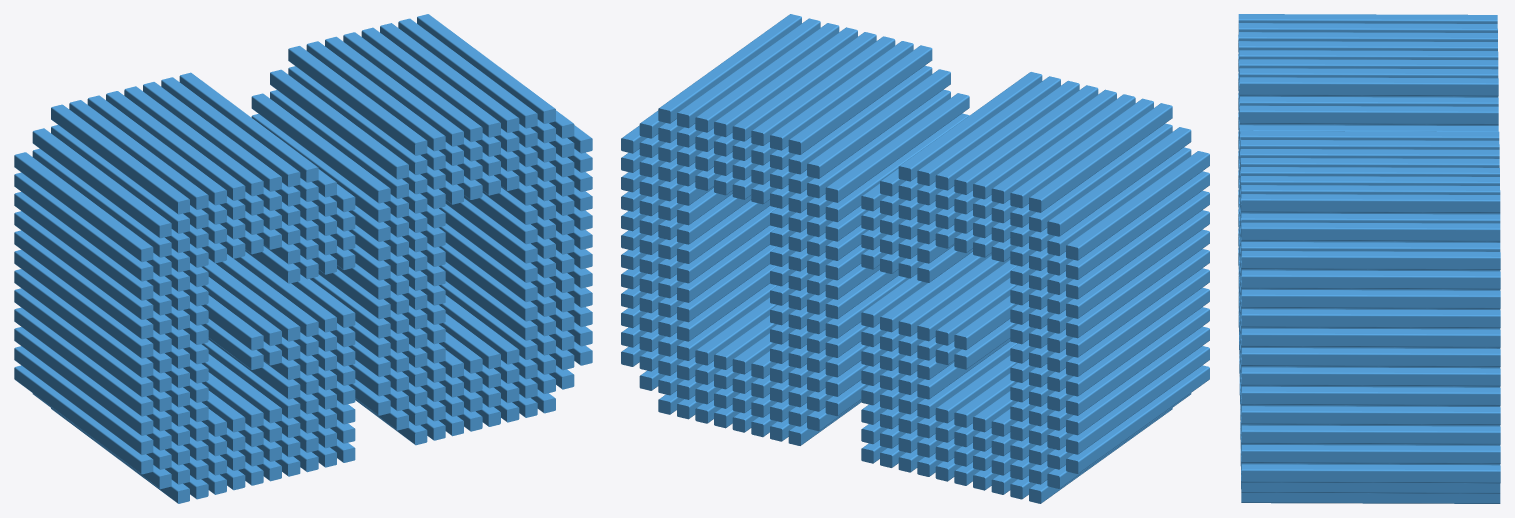
The picture shows the model from 3 angles, left to right: view 1: azimuth 30°, elevation 25°; view 2: azimuth 150°, elevation 25°; view 3: azimuth 270°, elevation 25°; orthographic projection.
Visible parts, largest first — view 1: GO; view 2: GO; view 3: GO.
Part boxes in pixels (bbox=[...]): GO: bbox=[14, 14, 592, 503]; GO: bbox=[621, 14, 1209, 503]; GO: bbox=[1238, 14, 1500, 503].
Size of the model in its own units: 12.87 by 8.17 by 6.39.
